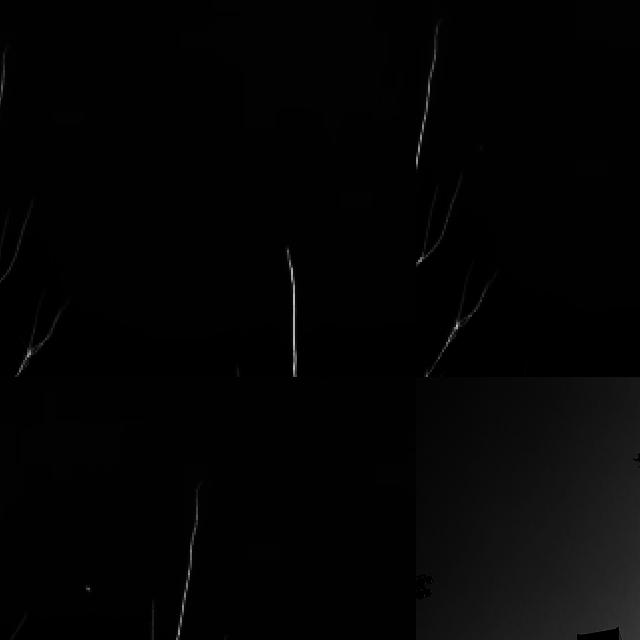0: (77, 576, 103, 606), (470, 134, 492, 162)
drone: (631, 444, 640, 473)
